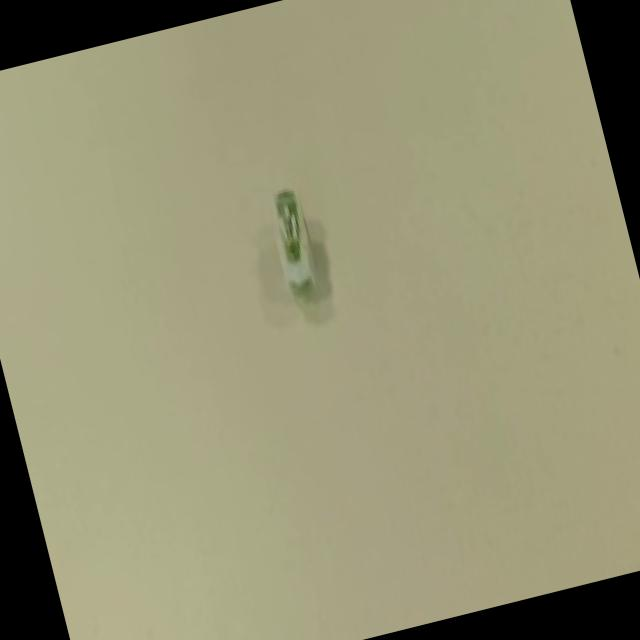4_NanoBug_Blanco: (242, 168, 349, 314)
